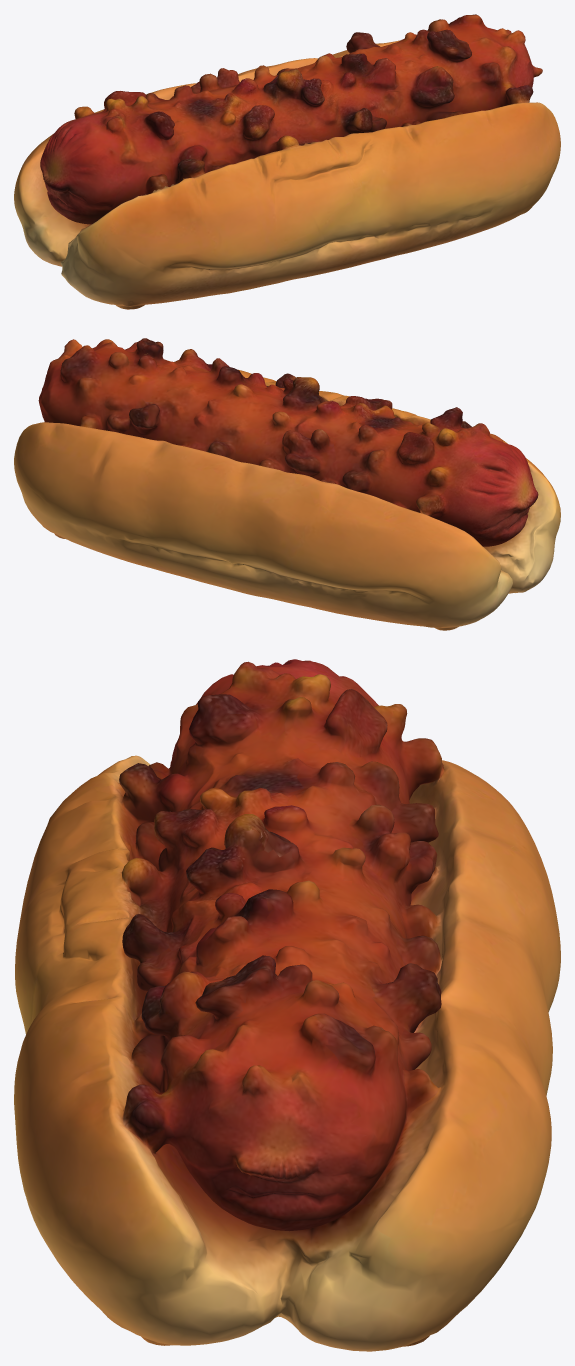
The model's file is Jack.glb.
3 renders of one model, top to bottom at view 1: azimuth 30°, elevation 25°; view 2: azimuth 150°, elevation 25°; view 3: azimuth 270°, elevation 25°, orthographic. The views are drawn at different scales.
Visible parts, largest first — view 1: tripo_node_69358116-4558-4df7-a766-e71a19b26ed7; view 2: tripo_node_69358116-4558-4df7-a766-e71a19b26ed7; view 3: tripo_node_69358116-4558-4df7-a766-e71a19b26ed7.
Boxes of the visible parts, bbox=[...] form: tripo_node_69358116-4558-4df7-a766-e71a19b26ed7: bbox=[14, 14, 560, 309]; tripo_node_69358116-4558-4df7-a766-e71a19b26ed7: bbox=[14, 338, 560, 630]; tripo_node_69358116-4558-4df7-a766-e71a19b26ed7: bbox=[14, 659, 560, 1351].
Size of the model in its own units: 0.9806 by 0.3384 by 0.5009.
1 material, 1 textured.
